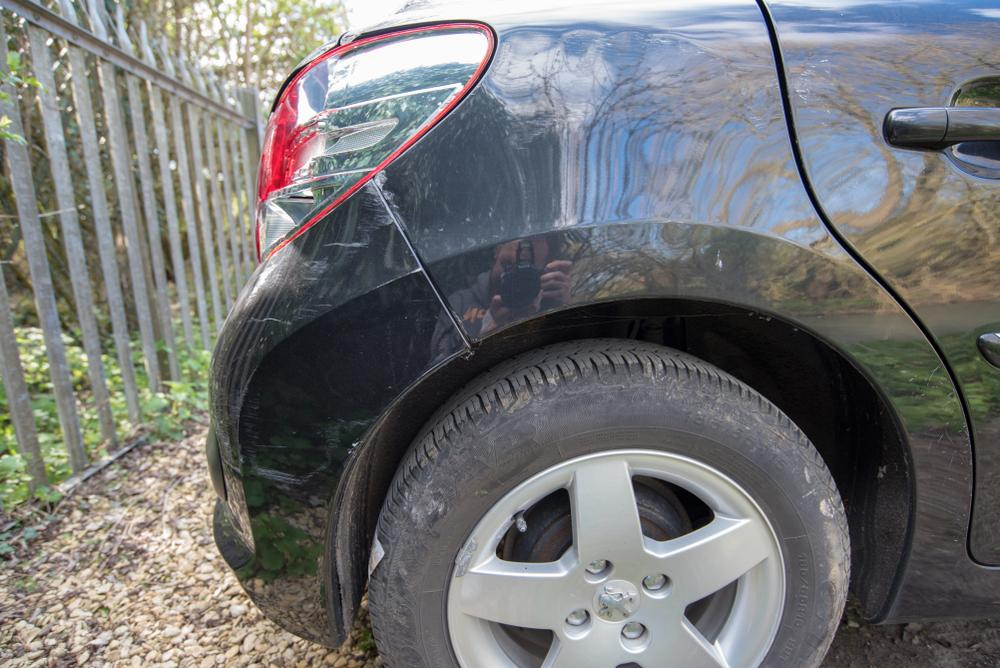dent: (486, 24, 705, 129)
lamp broken: (253, 23, 493, 258)
scratch: (302, 178, 403, 284)
